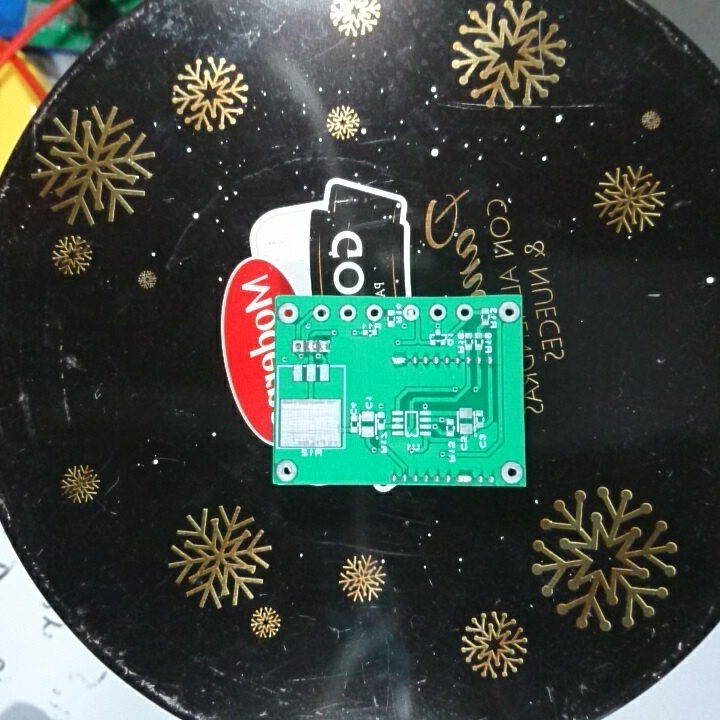F: (496, 457, 525, 486), (276, 300, 301, 327), (274, 457, 299, 483), (494, 300, 521, 324), (400, 300, 423, 326), (453, 301, 476, 325), (336, 303, 358, 324), (428, 300, 447, 324), (363, 303, 384, 324), (311, 303, 333, 323), (289, 338, 304, 356)
P: (453, 471, 476, 487), (389, 354, 410, 369)
